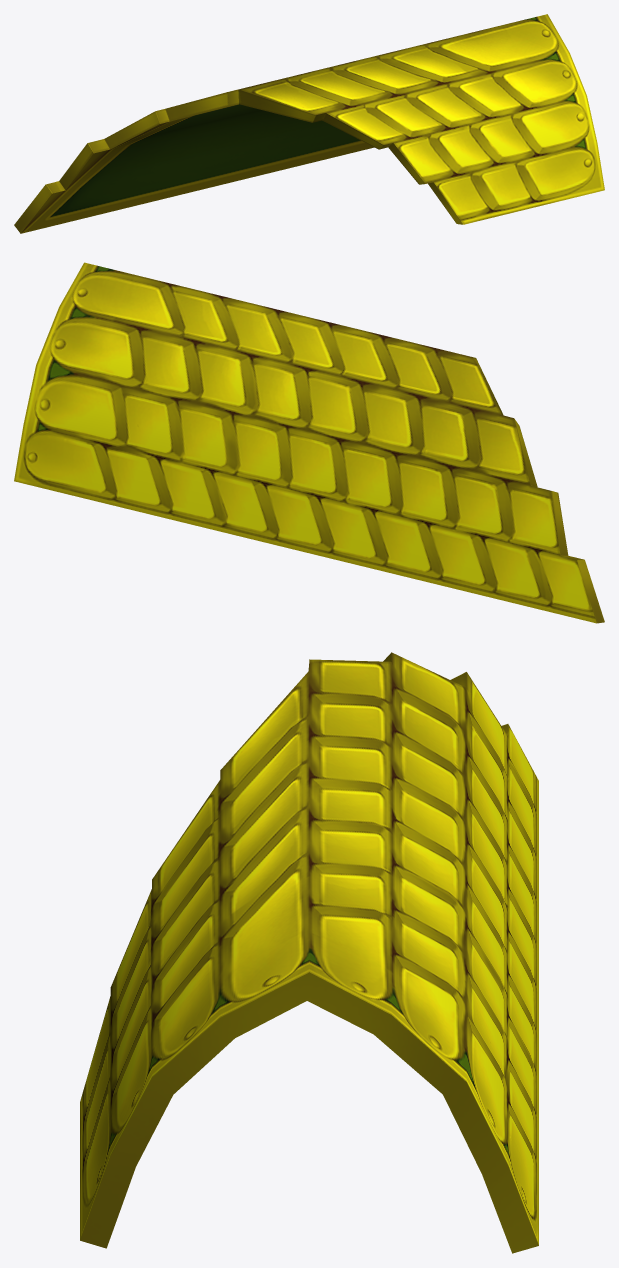
File: guo_shing_ya_armor.FBX
The picture shows the model from 3 angles, top to bottom: view 1: azimuth 30°, elevation 25°; view 2: azimuth 150°, elevation 25°; view 3: azimuth 270°, elevation 25°; orthographic projection. The views are drawn at different scales.
Visible parts, largest first — view 1: Shoulder; view 2: Shoulder; view 3: Shoulder.
Part boxes in pixels (x1,y1,x2,y2): Shoulder: (14,14,604,233); Shoulder: (14,262,604,623); Shoulder: (80,652,538,1253).
Size of the model in its own units: 0.7836 by 0.2214 by 0.327.
